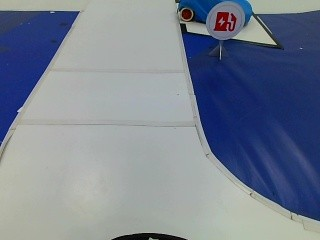battery: (209, 1, 245, 38)
car: (170, 0, 251, 24)
